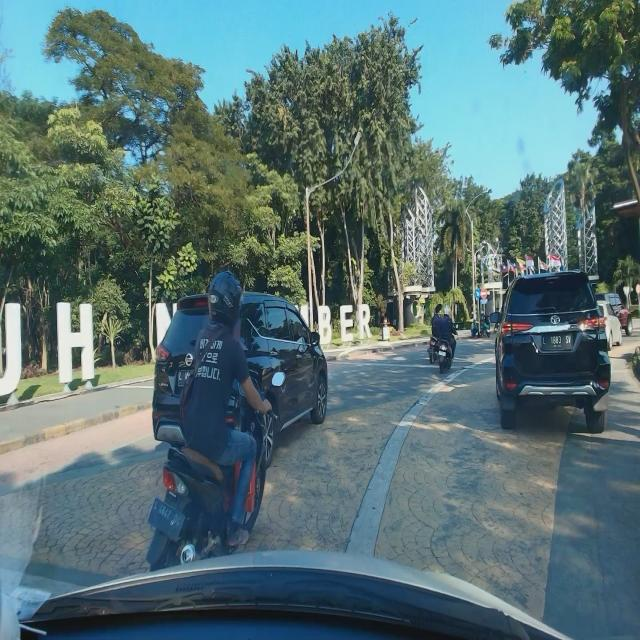car: (493, 266, 612, 436)
license-plate: (542, 333, 573, 351)
